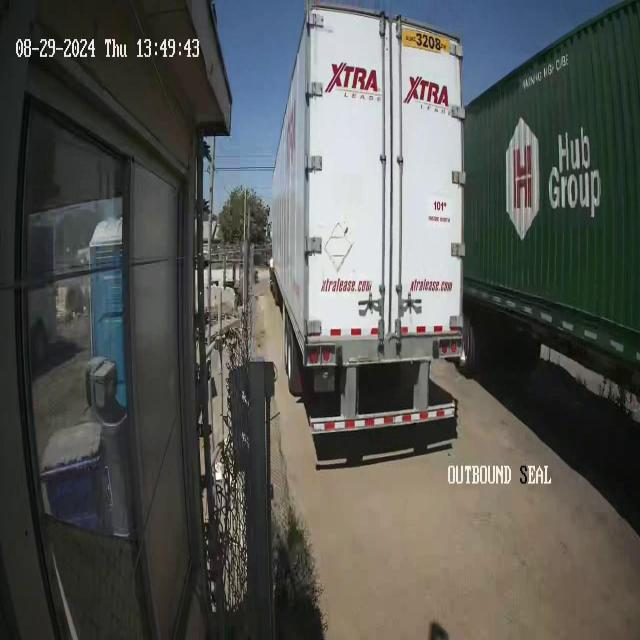TRUCK_IN: (461, 2, 640, 402)
TRUCK_OUT: (261, 0, 469, 469)
